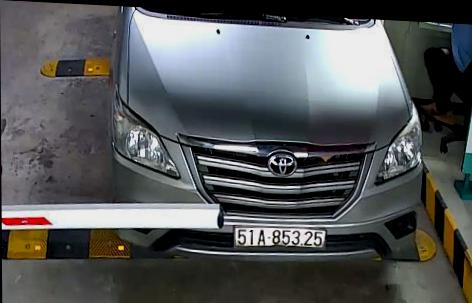License_Plate: (229, 218, 334, 256)
